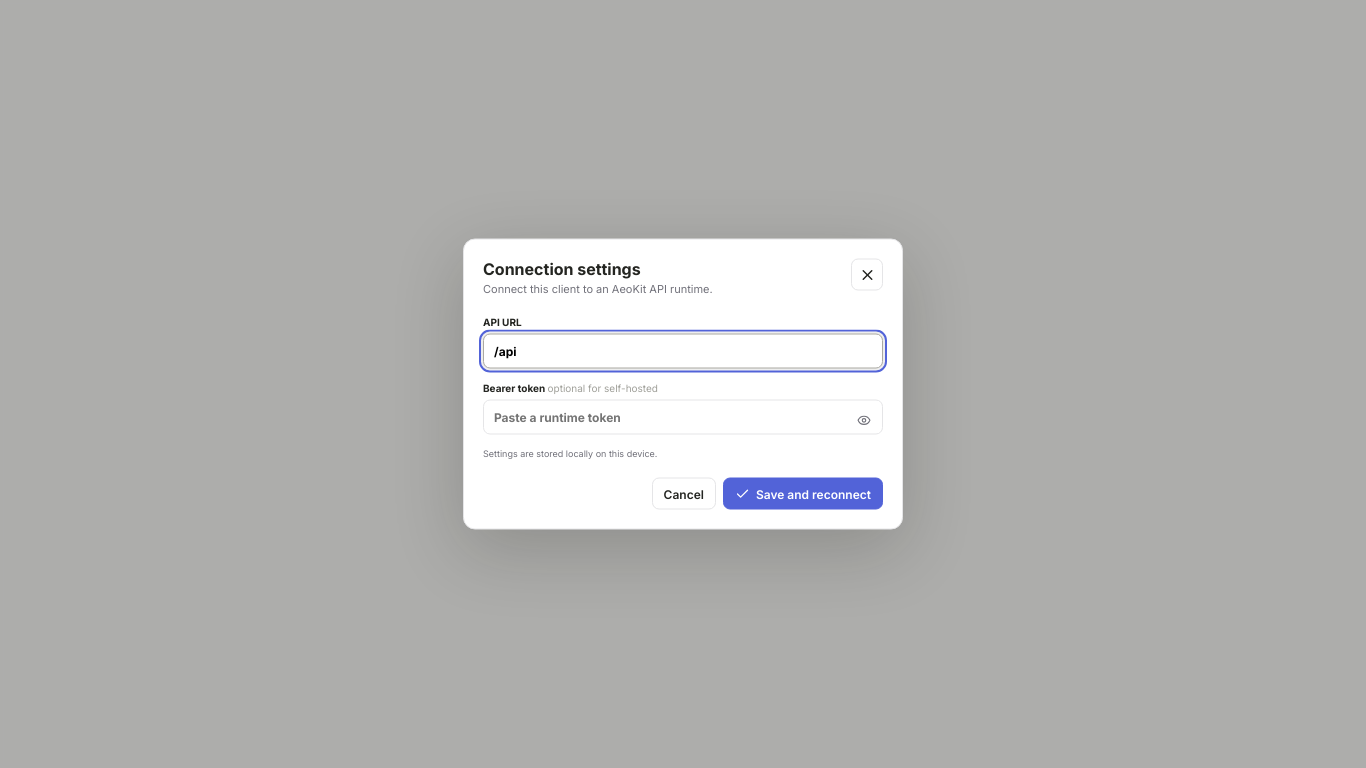
Test: SettingsDialog › keeps settings open and reports persistence failures
Click the button "Save and reconnect".
click(803, 494)  # box [723,478,883,510]
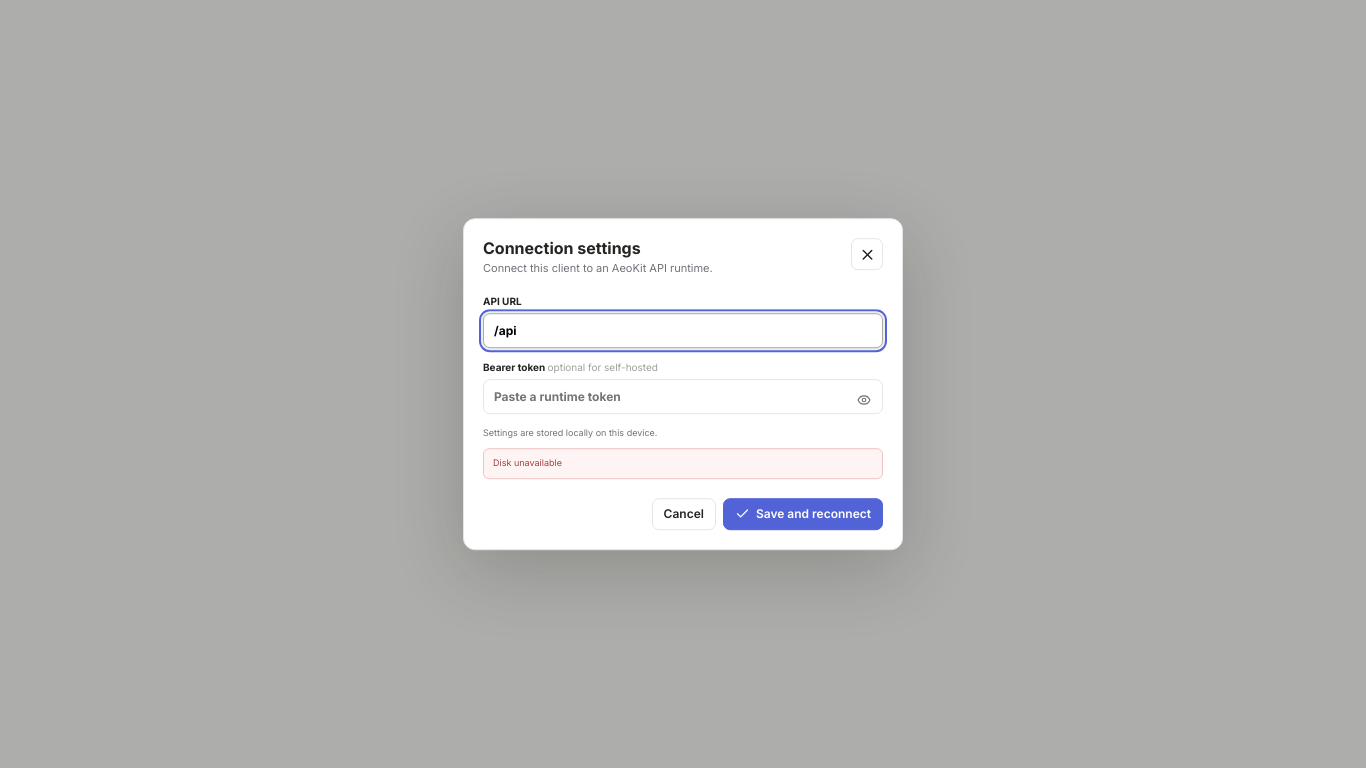
Expected: the button "Save and reconnect" is enabled, [723,498,883,530]
Expected: the message reads "Disk unavailable", [493,457,562,468]
